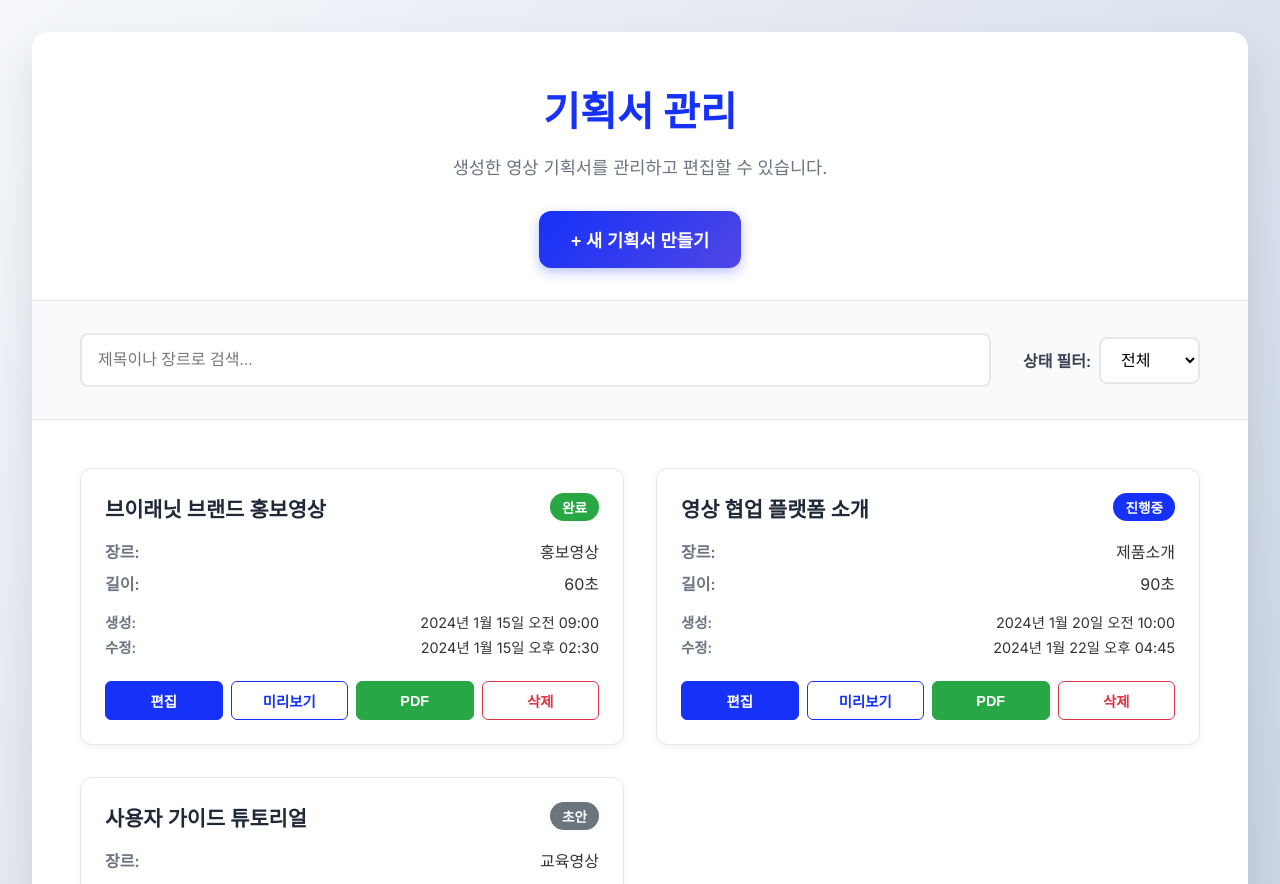
Test: HistoryPage › 빈 상태 처리 › 검색 결과가 없을 때 적절한 메시지가 표시된다
Step 1. Type "존재하지않는검색어" into the field with placeholder "제목이나 장르로 검색..." → (536, 360), box [80,333,991,387]
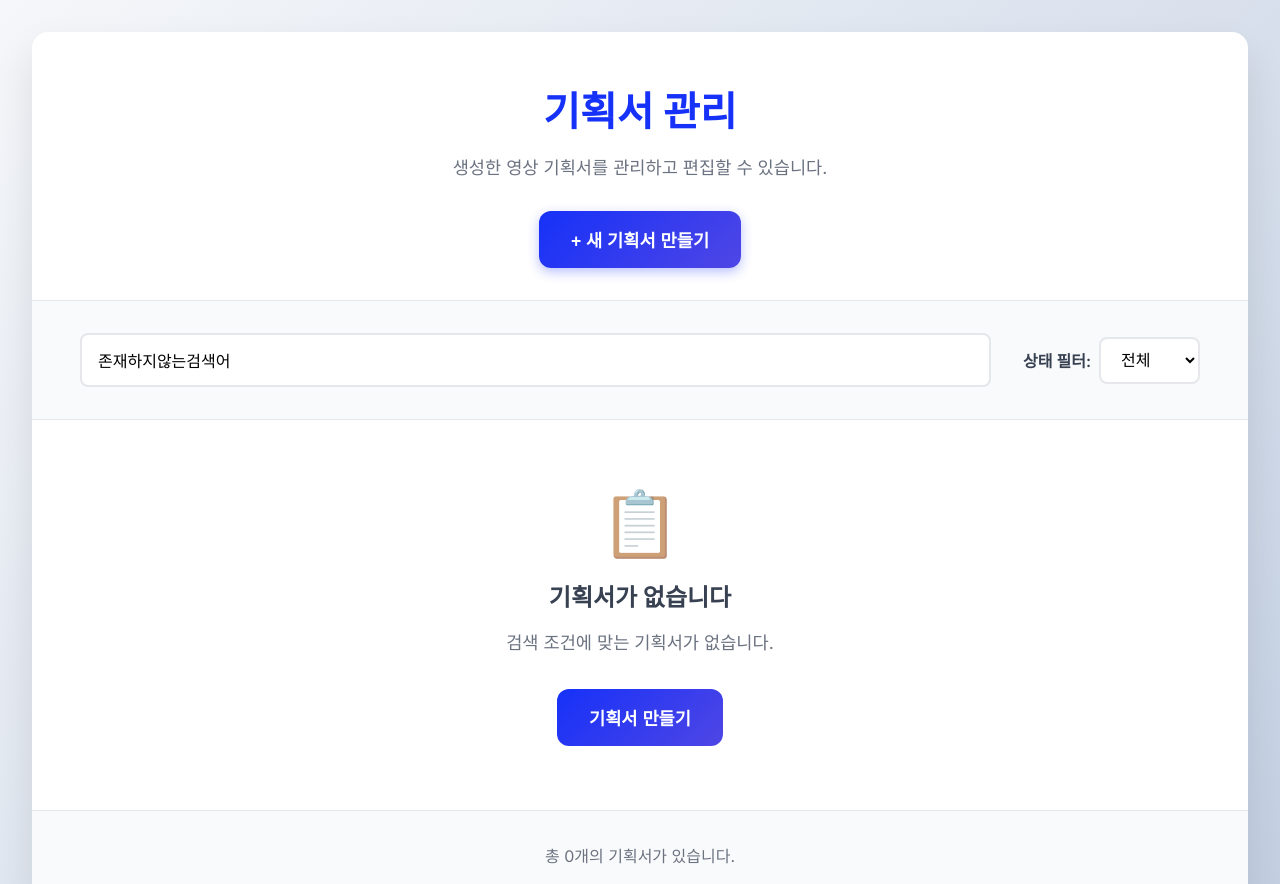
Now the heading "기획서가 없습니다" is shown, box [549,583,731,612]
Now the text "검색 조건에 맞는 기획서가 없습니다." is shown, box [506,632,774,653]
